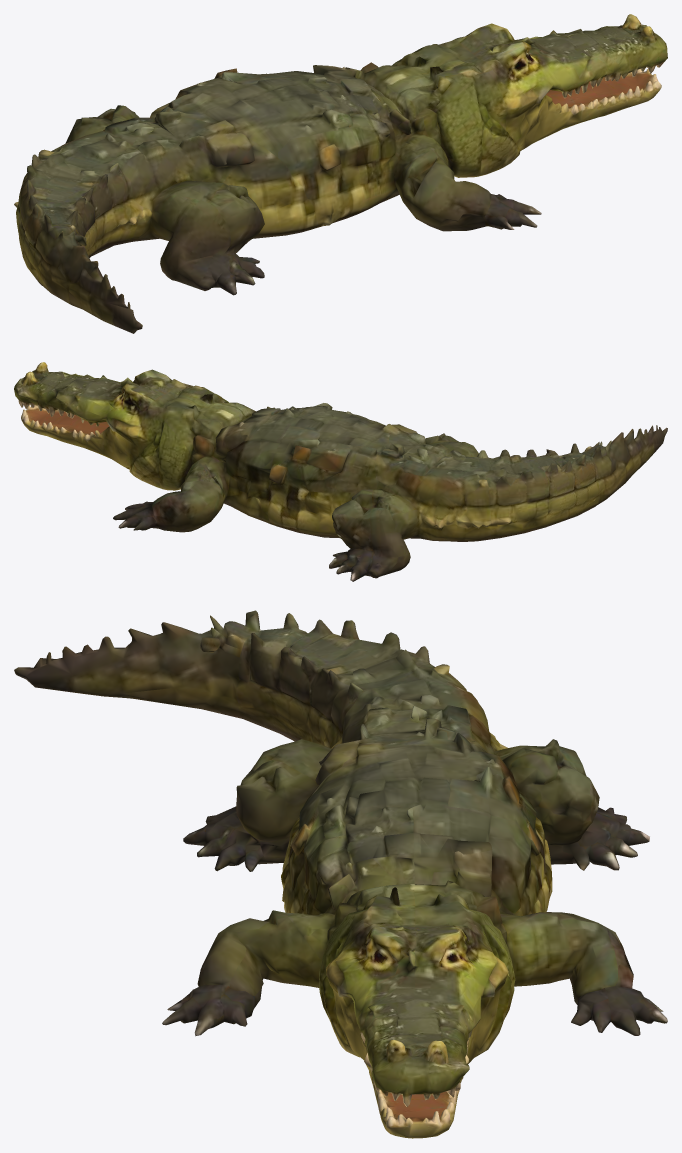
Rendered from croc.glb.
3 views of the same model, one above another, from view 1: azimuth 30°, elevation 25°; view 2: azimuth 150°, elevation 25°; view 3: azimuth 270°, elevation 25° (orthographic). The views are drawn at different scales.
Visible parts, largest first — view 1: tripo_node_0dcdd95e-ad39-4a54-b0d6-e5dff3ed3d27; view 2: tripo_node_0dcdd95e-ad39-4a54-b0d6-e5dff3ed3d27; view 3: tripo_node_0dcdd95e-ad39-4a54-b0d6-e5dff3ed3d27.
Part boxes in pixels (x1,y1,x2,y2): tripo_node_0dcdd95e-ad39-4a54-b0d6-e5dff3ed3d27: (14,14,667,333); tripo_node_0dcdd95e-ad39-4a54-b0d6-e5dff3ed3d27: (14,362,667,581); tripo_node_0dcdd95e-ad39-4a54-b0d6-e5dff3ed3d27: (14,610,667,1138).
Size of the model in its own units: 0.9995 by 0.1662 by 0.6366.
1 material, 1 textured.
